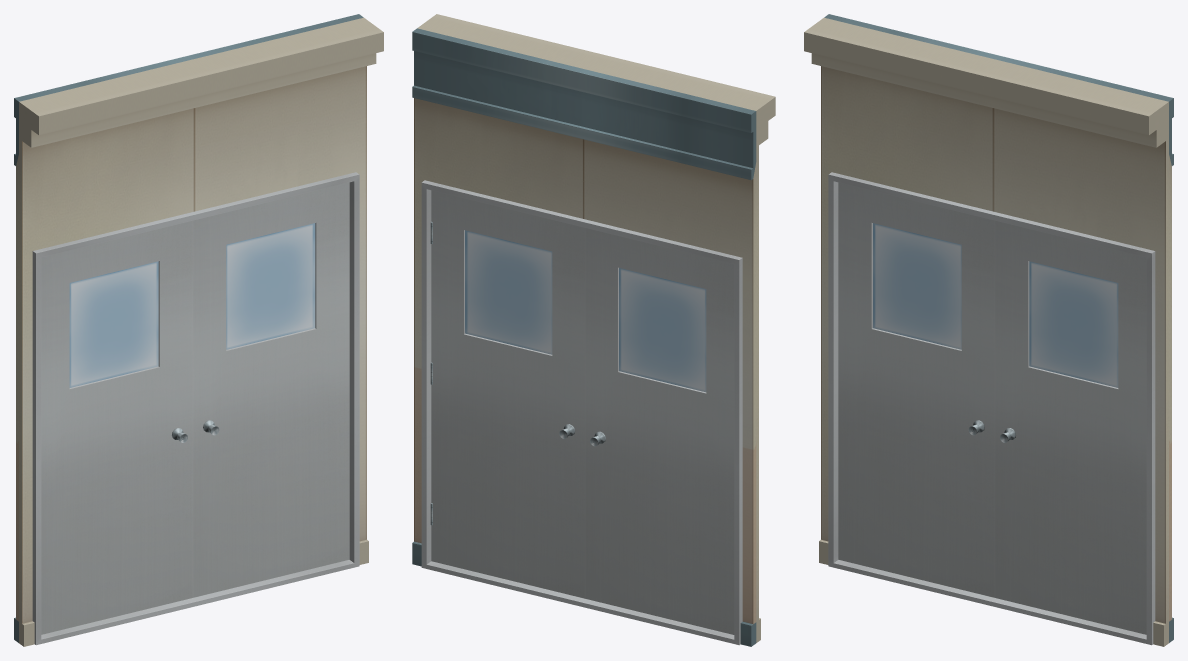
Rendered from SHW_Door_02_01.fbx.
3 renders of one model, left to right at view 1: azimuth 30°, elevation 25°; view 2: azimuth 150°, elevation 25°; view 3: azimuth 330°, elevation 25°, orthographic.
Parts seen in each view (by area): view 1: wall01, door02, door01, glass_01 (×2), door_frame01; view 2: wall01, door02, door01, glass_02 (×2), door_frame01; view 3: wall01, door01, door02, glass_01 (×2), door_frame01.
Part boxes in pixels (x1,y1,x2,y2): wall01: (14,14,383,646); door02: (193,182,349,597); door01: (41,220,192,634); glass_01 (×2): (69,223,315,387); door_frame01: (32,172,359,645); wall01: (412,14,775,646); door02: (430,190,585,598); door01: (585,228,734,634); glass_02 (×2): (465,230,706,392); door_frame01: (421,180,742,645); wall01: (804,14,1173,646); door01: (838,182,994,597); door02: (995,220,1146,634); glass_01 (×2): (873,223,1118,387); door_frame01: (828,172,1155,645).
Size of the model in its own units: 200 by 300 by 28.
